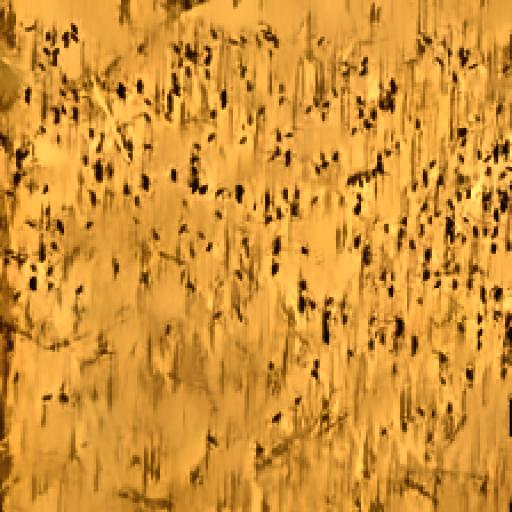egg: (199, 40, 220, 73), (440, 213, 460, 246), (317, 317, 336, 350), (442, 67, 462, 93), (187, 157, 201, 194), (308, 359, 330, 382), (234, 176, 249, 207), (348, 203, 370, 224), (265, 232, 285, 255), (360, 244, 377, 270), (203, 429, 222, 451), (456, 122, 472, 147), (260, 30, 285, 46), (160, 96, 182, 114), (167, 68, 182, 94), (406, 334, 422, 358), (412, 268, 436, 284), (218, 88, 233, 112), (14, 148, 30, 170), (268, 207, 284, 229), (373, 152, 388, 175), (488, 138, 501, 164), (330, 146, 344, 170), (296, 292, 310, 316), (495, 187, 509, 211), (278, 151, 296, 169), (442, 396, 460, 414), (267, 408, 284, 427), (182, 41, 196, 64), (490, 284, 506, 304), (51, 217, 68, 235), (266, 262, 283, 280), (403, 179, 421, 196), (95, 131, 108, 154), (394, 313, 406, 337), (442, 194, 458, 212), (262, 186, 274, 210), (33, 120, 48, 139), (360, 121, 379, 136), (90, 160, 104, 180), (359, 339, 377, 354), (351, 102, 367, 118), (309, 164, 325, 180), (465, 277, 480, 294), (140, 174, 154, 192), (409, 113, 423, 131), (382, 77, 400, 91), (276, 184, 290, 202), (116, 80, 128, 100), (292, 390, 304, 410), (382, 220, 397, 236), (420, 247, 436, 262), (144, 138, 158, 154), (457, 50, 471, 66), (87, 189, 100, 206), (71, 104, 82, 124), (77, 150, 89, 168), (166, 169, 180, 184), (198, 184, 212, 199), (433, 281, 447, 296), (418, 199, 432, 214), (469, 342, 488, 353), (36, 243, 47, 261), (38, 182, 52, 196), (321, 154, 332, 171), (69, 21, 83, 34), (134, 78, 145, 94), (471, 313, 488, 323), (37, 44, 51, 56), (422, 164, 429, 188), (490, 208, 502, 222), (27, 276, 37, 292), (52, 106, 60, 125), (490, 241, 498, 260), (13, 173, 22, 189), (469, 328, 487, 336), (472, 226, 481, 242), (483, 168, 495, 178), (24, 86, 31, 103), (400, 217, 410, 228), (60, 106, 64, 118)
